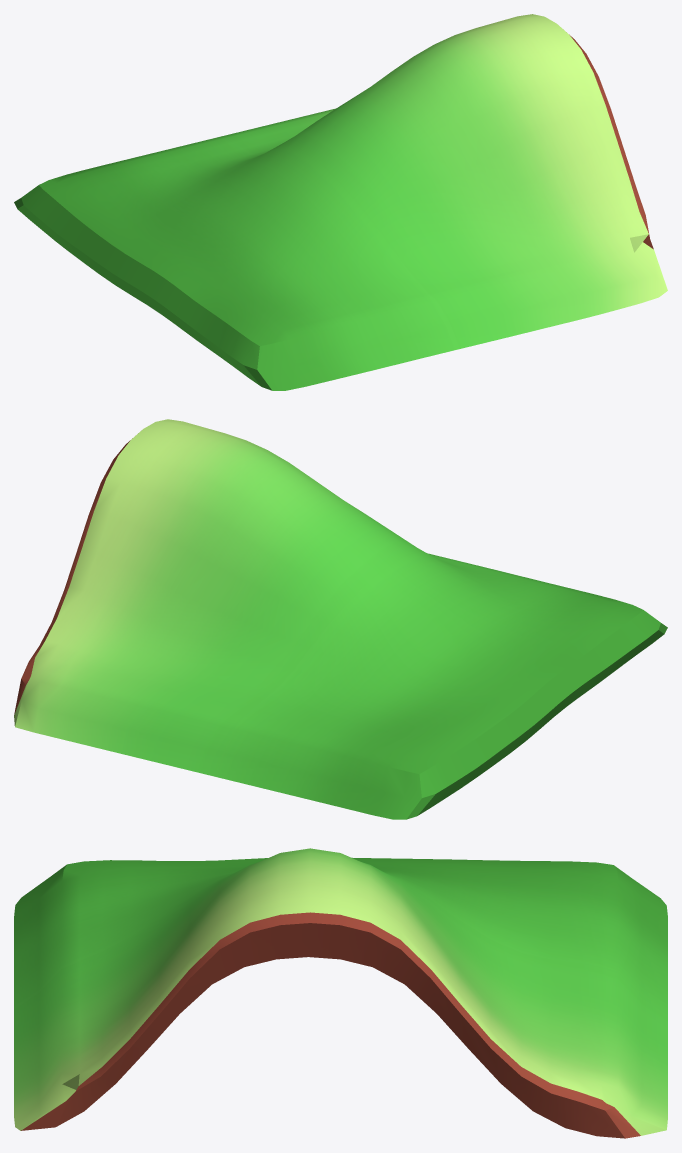
The model's file is BadgerHole.fbx.
3 views of the same model, one above another, from view 1: azimuth 30°, elevation 25°; view 2: azimuth 150°, elevation 25°; view 3: azimuth 270°, elevation 25° (orthographic). The views are drawn at different scales.
Parts seen in each view (by area): view 1: Plane; view 2: Plane; view 3: Plane.
Part boxes in pixels (bbox=[...]): Plane: bbox=[14, 14, 667, 390]; Plane: bbox=[14, 419, 667, 819]; Plane: bbox=[14, 848, 667, 1138].
Size of the model in its own units: 199 by 86.68 by 217.
